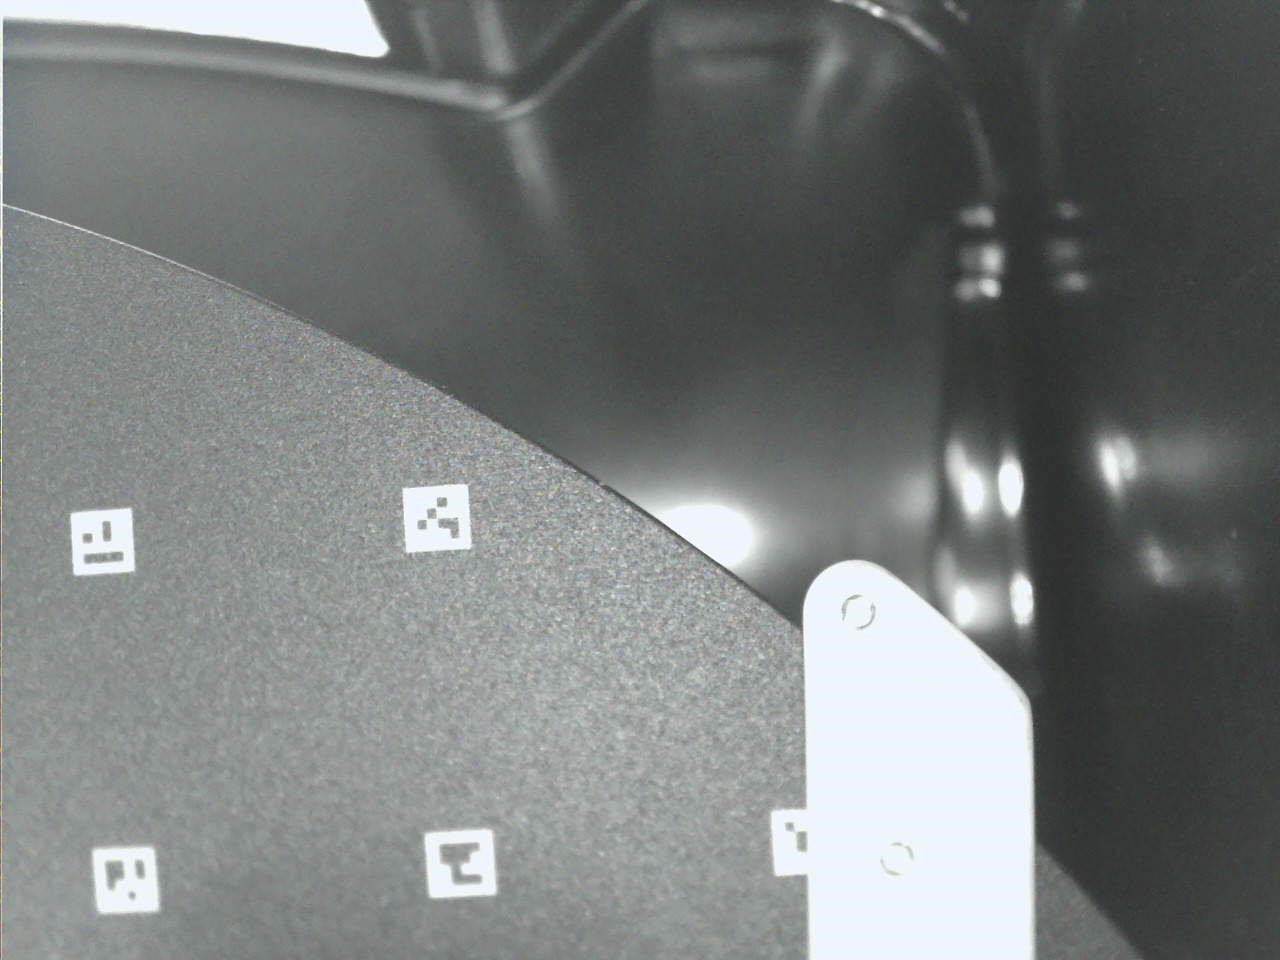forktip: (790, 537, 1047, 960)
